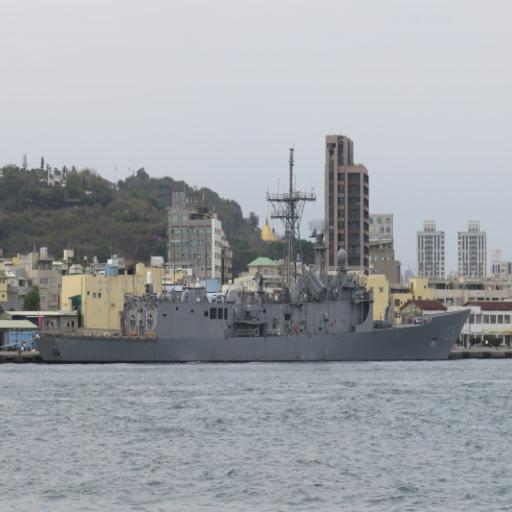Fragata: (31, 140, 476, 364)
